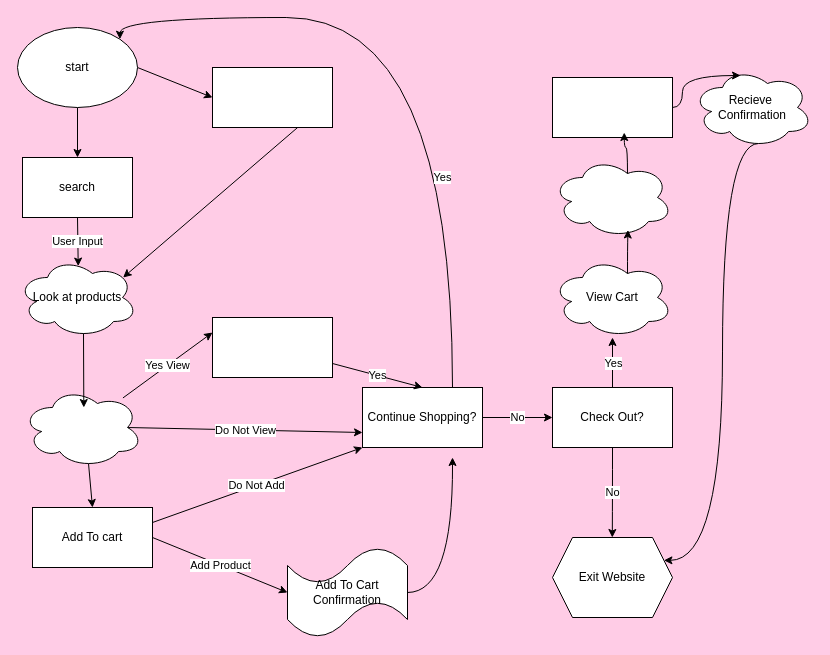
Image size: 830x655. Some labels were removed from this diagram. Here are the shapes that lost their labels. From the top down, the box of each, then its label:
(212, 66, 332, 128): explore
(552, 76, 672, 138): Input Payment
(552, 156, 672, 238): View Payment
(212, 316, 332, 378): View Product Webpage
(22, 386, 142, 468): Look at a specific product
